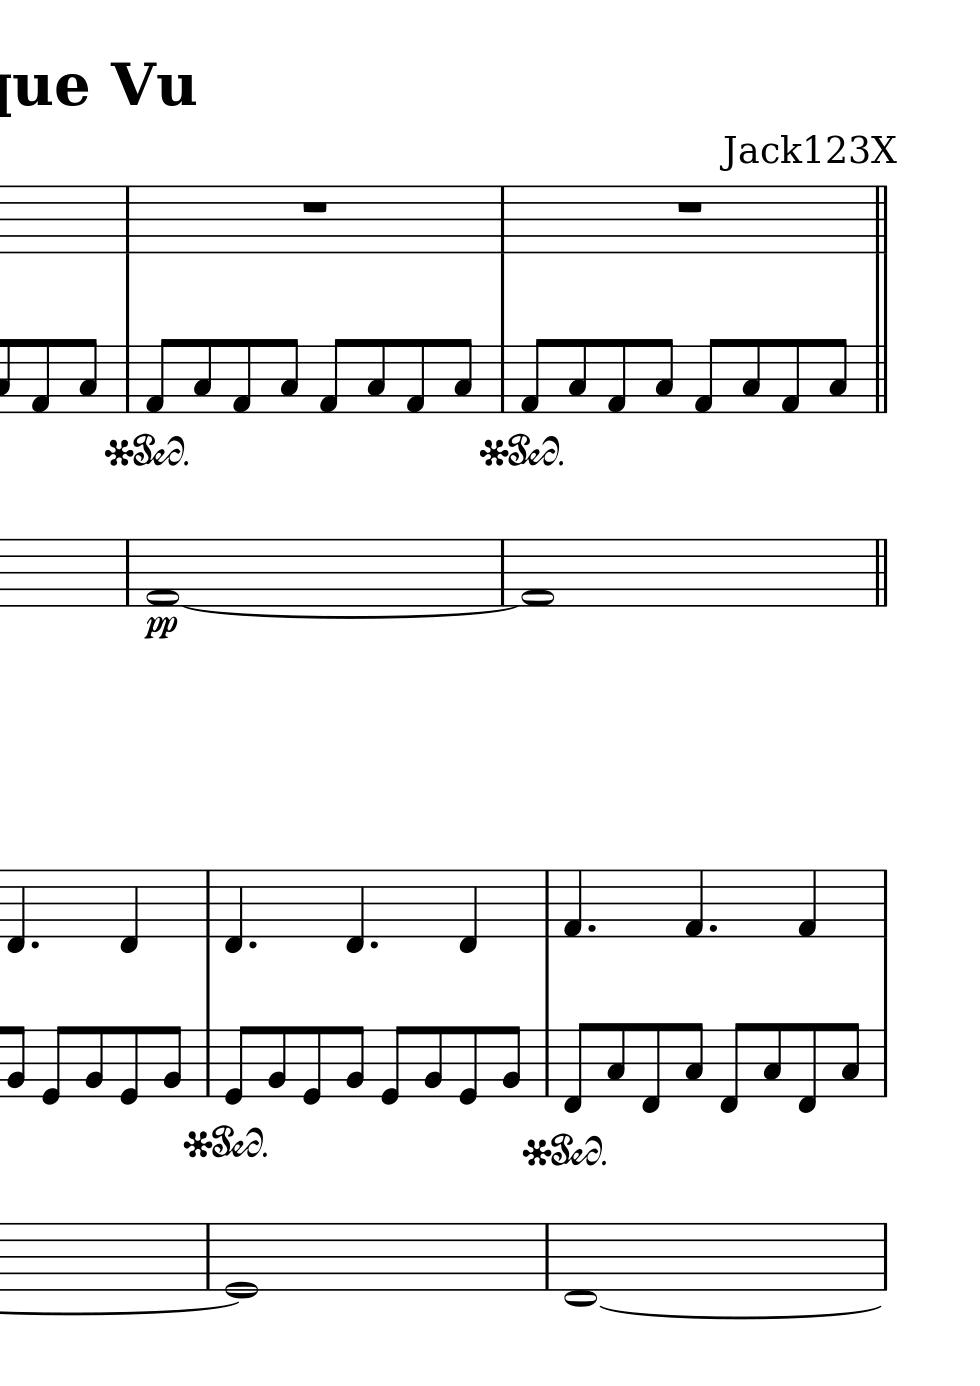1_-1: (564, 1221, 597, 1312)
1_0: (225, 1220, 259, 1301)
1_1: (520, 537, 555, 611), (146, 537, 180, 611)
4_-1: (117, 867, 140, 955), (456, 867, 479, 955), (222, 867, 244, 955), (343, 867, 365, 954)
4_1: (795, 869, 819, 940), (682, 869, 705, 938), (562, 869, 584, 938)
8_-1: (717, 1021, 747, 1115), (561, 1021, 590, 1116), (638, 1021, 661, 1115), (795, 1021, 818, 1115), (3, 869, 27, 954)
8_0: (378, 1024, 407, 1108), (222, 1024, 251, 1107), (40, 1024, 68, 1108), (455, 1024, 480, 1107), (116, 1024, 141, 1106), (300, 1024, 323, 1107)
8_1: (693, 335, 720, 415), (317, 335, 344, 415), (143, 336, 170, 415), (519, 336, 545, 415), (28, 336, 52, 415), (229, 336, 253, 415), (403, 336, 426, 416), (605, 336, 627, 415), (778, 336, 801, 415)
8_2: (160, 1024, 183, 1099), (82, 1024, 105, 1098), (421, 1025, 444, 1099), (500, 1024, 522, 1100), (265, 1024, 287, 1099), (344, 1024, 365, 1099), (5, 1024, 25, 1099)
8_3: (277, 337, 300, 415), (365, 337, 388, 415), (603, 1021, 627, 1099), (191, 337, 213, 415), (682, 1021, 704, 1099), (839, 1021, 861, 1099), (77, 337, 99, 415), (452, 337, 473, 415), (566, 337, 588, 415), (740, 337, 762, 415), (762, 1021, 783, 1099), (828, 336, 848, 415), (653, 337, 673, 415)
Double_barline: (869, 538, 892, 607), (869, 186, 892, 253), (869, 345, 891, 414)
Rests1: (673, 197, 706, 217), (297, 198, 331, 217)
Single_barline: (118, 345, 137, 414), (494, 344, 512, 414), (493, 186, 511, 253), (538, 1223, 556, 1291), (493, 539, 511, 606), (876, 870, 893, 937), (876, 1223, 893, 1291), (538, 1030, 555, 1096), (119, 186, 135, 255), (876, 1029, 892, 1098), (539, 871, 555, 938), (119, 539, 135, 606), (200, 871, 216, 937), (200, 1030, 215, 1096), (200, 1223, 215, 1289)
Slur: (183, 604, 511, 622)
dot: (585, 922, 598, 935), (246, 937, 259, 950), (707, 922, 718, 935), (29, 938, 40, 950), (368, 938, 380, 950)
pp: (142, 615, 178, 641)
